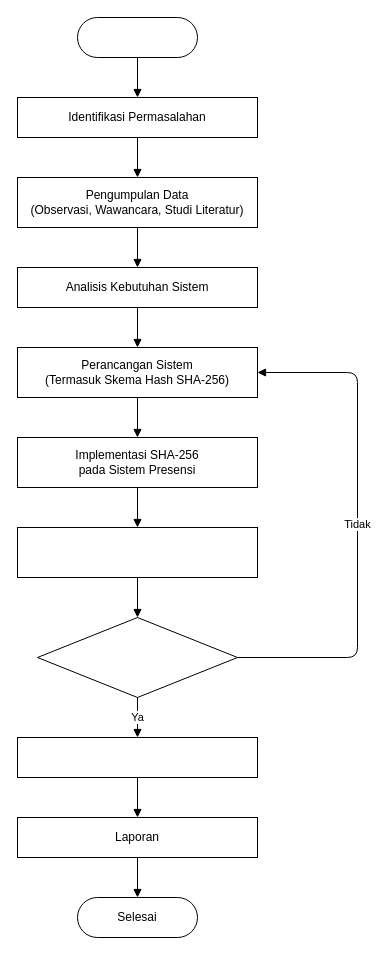
The diagram is 388 pixels wide and 955 high, and some of its shapes have lost their labels. Here are the shapes that lost their labels. From the top down, the box of each, then its label:
(76, 16, 198, 58): Mulai
(16, 526, 258, 578): Pengujian Sistem (Black Box, Integritas Data & UAT)
(36, 616, 238, 698): Sistem Berjalan Sesuai?
(16, 736, 258, 778): Analisis Hasil
